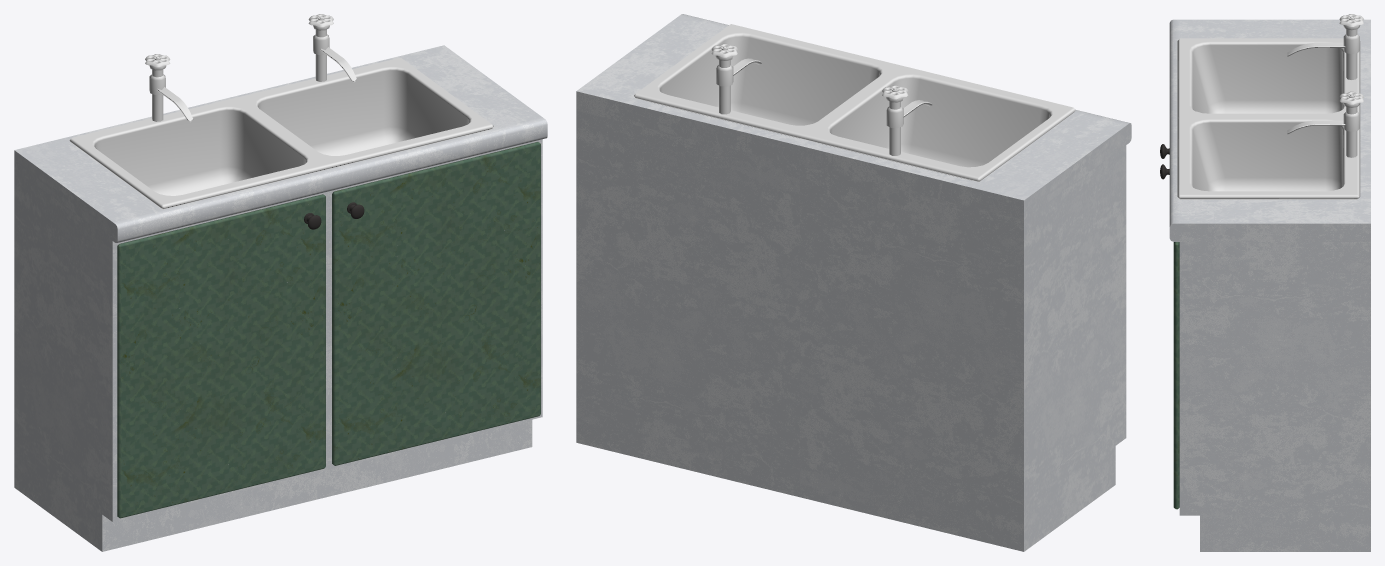
File: Cabinet_A_6.fbx
The picture shows the model from 3 angles, left to right: view 1: azimuth 30°, elevation 25°; view 2: azimuth 150°, elevation 25°; view 3: azimuth 270°, elevation 25°; orthographic projection. The views are drawn at different scales.
Visible parts, largest first — view 1: Cabinet_A_6, Cabinet_A_6_Sink, Cylinder.007, Cylinder.008; view 2: Cabinet_A_6, Cabinet_A_6_Sink, Cylinder.008, Cylinder.007; view 3: Cabinet_A_6, Cabinet_A_6_Sink, Cylinder.008, Cylinder.007.
Boxes of the visible parts, box(x1,y1,x2,y2) form: Cabinet_A_6: box(14, 45, 547, 551); Cabinet_A_6_Sink: box(69, 57, 493, 209); Cylinder.007: box(145, 54, 193, 121); Cylinder.008: box(308, 14, 356, 81); Cabinet_A_6: box(576, 14, 1131, 551); Cabinet_A_6_Sink: box(634, 24, 1075, 181); Cylinder.008: box(711, 43, 761, 114); Cylinder.007: box(882, 85, 932, 155); Cabinet_A_6: box(1160, 19, 1370, 551); Cabinet_A_6_Sink: box(1177, 38, 1360, 199); Cylinder.008: box(1287, 91, 1363, 157); Cylinder.007: box(1287, 14, 1363, 79).
Bounding box in the file's own units: 120 × 108 × 52.39.
